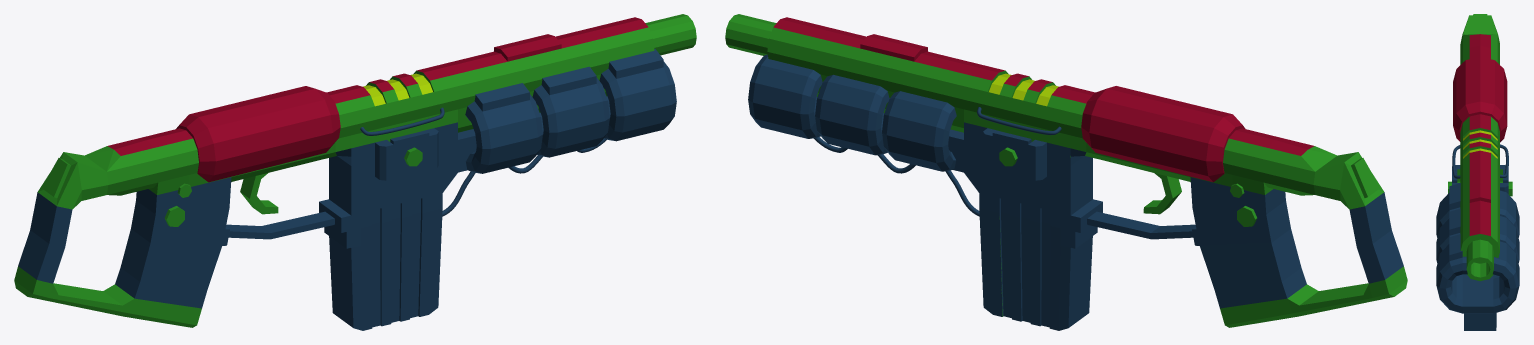
File: smg_yung.obj
3 views of the same model, side by side, from view 1: azimuth 30°, elevation 25°; view 2: azimuth 150°, elevation 25°; view 3: azimuth 270°, elevation 25° (orthographic). The views are drawn at different scales.
Parts seen in each view (by area): view 1: Circle.001, Torus, Circle, Plane, Cylinder.002, BezierCurve.002; view 2: Circle.001, Torus, Circle, Plane, Cylinder.002, BezierCurve.002; view 3: Circle.001, Torus, Circle, BezierCurve.004, BezierCurve.005, Cylinder.006.
Boxes of the visible parts, box(x1,y1,x2,y2) form: Circle.001: box(14, 14, 696, 330); Torus: box(465, 49, 676, 173); Circle: box(176, 86, 340, 182); Plane: box(226, 211, 334, 239); Cylinder.002: box(240, 173, 278, 214); BezierCurve.002: box(442, 138, 606, 216); Circle.001: box(725, 14, 1407, 330); Torus: box(748, 54, 956, 171); Circle: box(1081, 86, 1245, 182); Plane: box(1087, 211, 1195, 239); Cylinder.002: box(1143, 173, 1181, 214); BezierCurve.002: box(813, 137, 979, 216); Circle.001: box(1452, 14, 1508, 330); Torus: box(1436, 183, 1519, 313); Circle: box(1453, 57, 1507, 142); BezierCurve.004: box(1452, 145, 1460, 178); BezierCurve.005: box(1500, 144, 1508, 177); Cylinder.006: box(1448, 181, 1512, 196).
Size of the model in its own units: 38.56 by 13.49 by 5.35.
